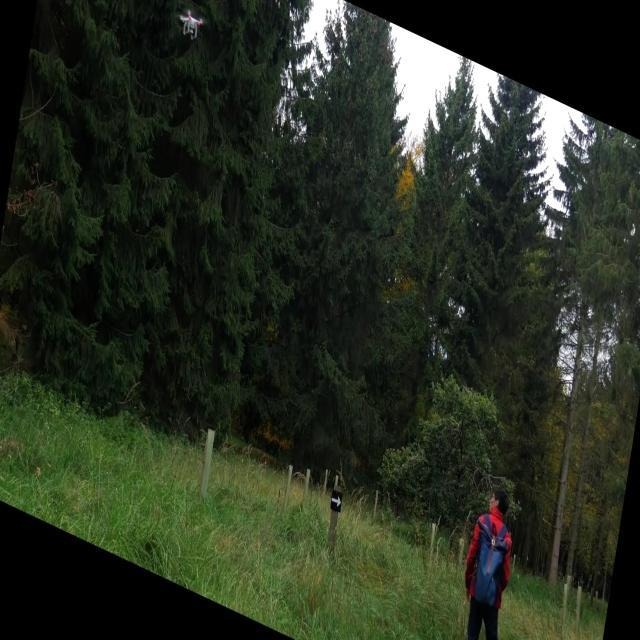drone: (173, 0, 206, 43)
